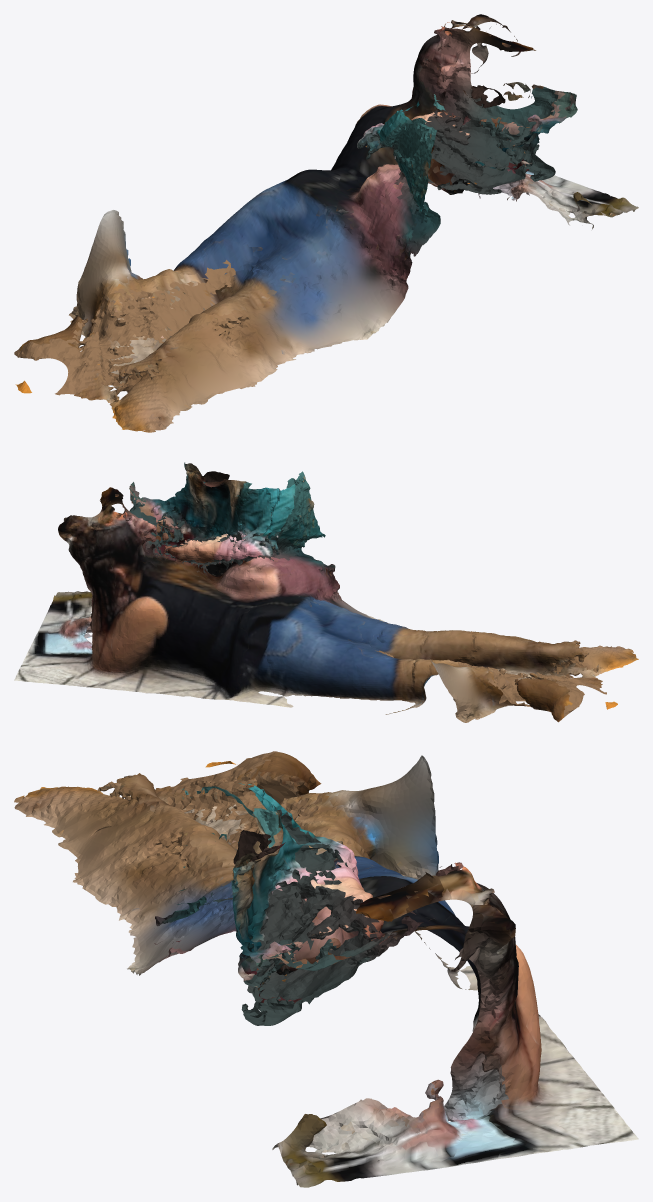
The picture shows the model from 3 angles, top to bottom: view 1: azimuth 30°, elevation 25°; view 2: azimuth 150°, elevation 25°; view 3: azimuth 270°, elevation 25°; orthographic projection. The views are drawn at different scales.
Bounding box in the file's own units: 1.96 × 0.5077 × 1.21.
Materials: 1 (1 with a texture image).
